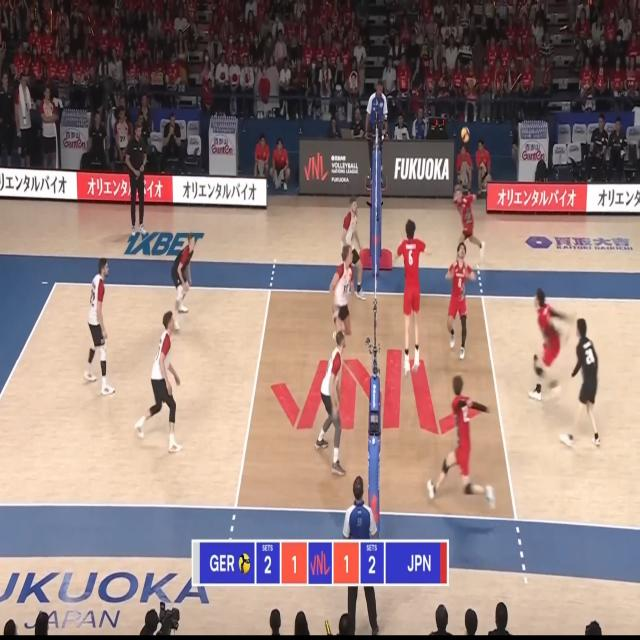ball: (461, 126, 469, 143)
